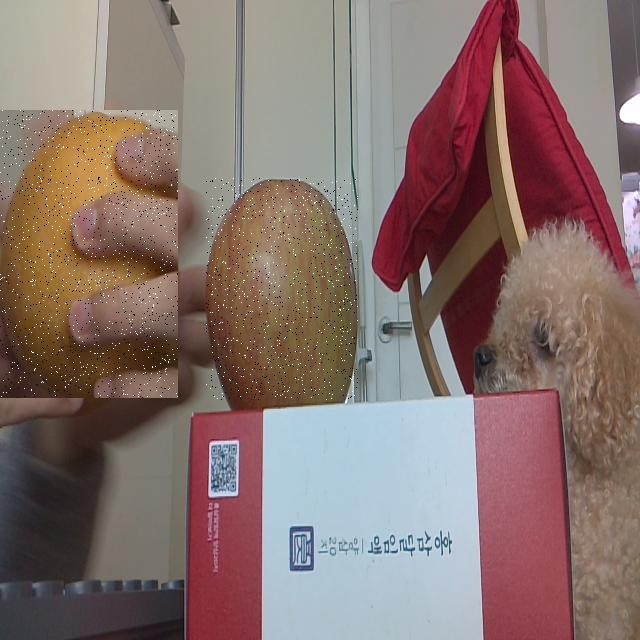apple: (206, 178, 358, 400)
pear: (0, 110, 178, 398)
